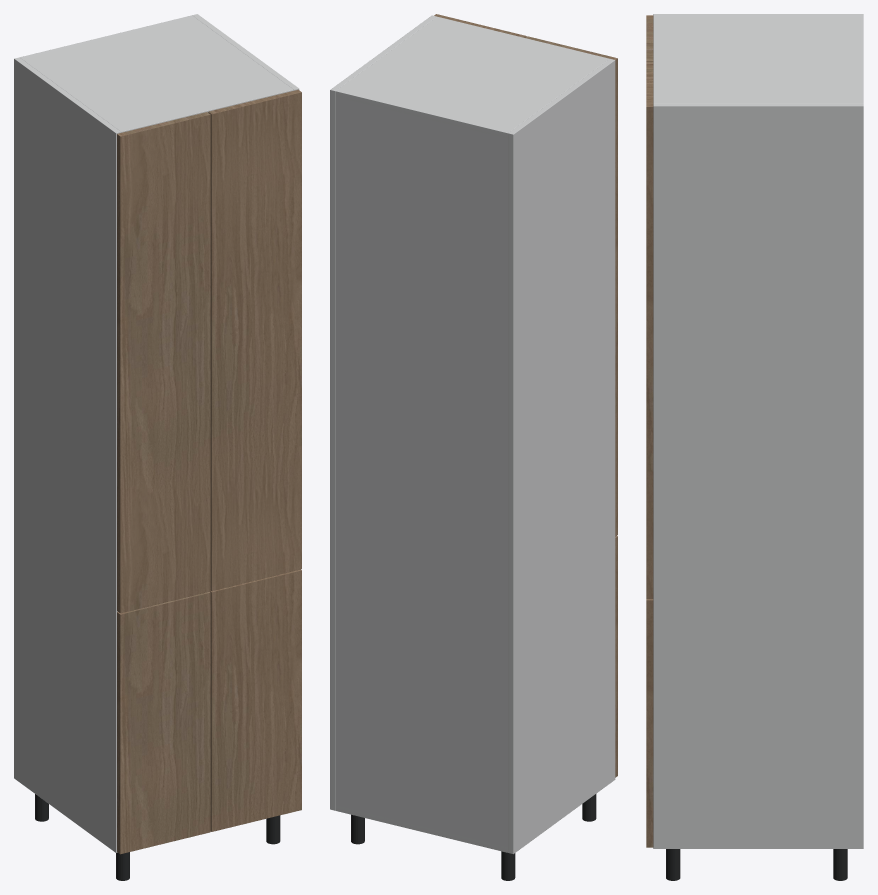
The model's file is oppein-pb-mnw-pc2490.glb.
3 renders of one model, left to right at view 1: azimuth 30°, elevation 25°; view 2: azimuth 150°, elevation 25°; view 3: azimuth 270°, elevation 25°, orthographic. The views are drawn at different scales.
Parts seen in each view (by area): view 1: Cabinet side, Upper pantry door, Upper pantry door.001, Lower pantry door, Lower pantry door.001, Cabinet top, Cabinet side.001; view 2: Cabinet back, Cabinet side, Cabinet top, Cabinet side.001, Upper pantry door, Cabinet bottom, Lower pantry door; view 3: Cabinet side.001, Cabinet top, Upper pantry door.001, Lower pantry door.001, Cabinet side, Adjustable foot.003, Adjustable foot.002.
Part boxes in pixels (<box>): Cabinet side: <box>14,57,121,852</box>; Upper pantry door: <box>117,112,210,613</box>; Upper pantry door.001: <box>208,89,301,590</box>; Lower pantry door: <box>117,591,210,854</box>; Lower pantry door.001: <box>210,569,301,831</box>; Cabinet top: <box>21,16,293,132</box>; Cabinet side.001: <box>192,14,299,90</box>; Cabinet back: <box>335,89,509,852</box>; Cabinet side: <box>508,59,615,854</box>; Cabinet top: <box>335,16,609,138</box>; Cabinet side.001: <box>330,15,436,810</box>; Upper pantry door: <box>525,36,617,536</box>; Cabinet bottom: <box>335,805,507,852</box>; Lower pantry door: <box>615,536,617,777</box>; Cabinet side.001: <box>653,103,863,848</box>; Cabinet top: <box>653,16,859,103</box>; Upper pantry door.001: <box>646,61,653,598</box>; Lower pantry door.001: <box>646,599,653,847</box>; Cabinet side: <box>653,14,863,16</box>; Adjustable foot.003: <box>666,849,680,880</box>; Adjustable foot.002: <box>833,849,847,880</box>.
Bounding box in the file's own units: 0.6096 × 2.4 × 0.6064.
3 materials, 1 textured.
